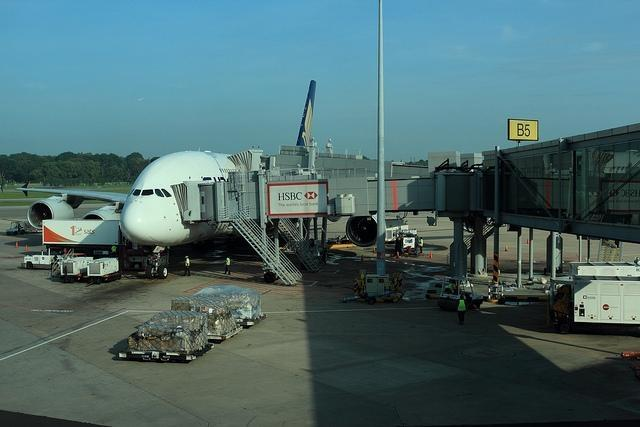car: (426, 281, 444, 298)
truck: (544, 256, 640, 336), (86, 257, 120, 283), (60, 257, 95, 282), (20, 250, 64, 268)
